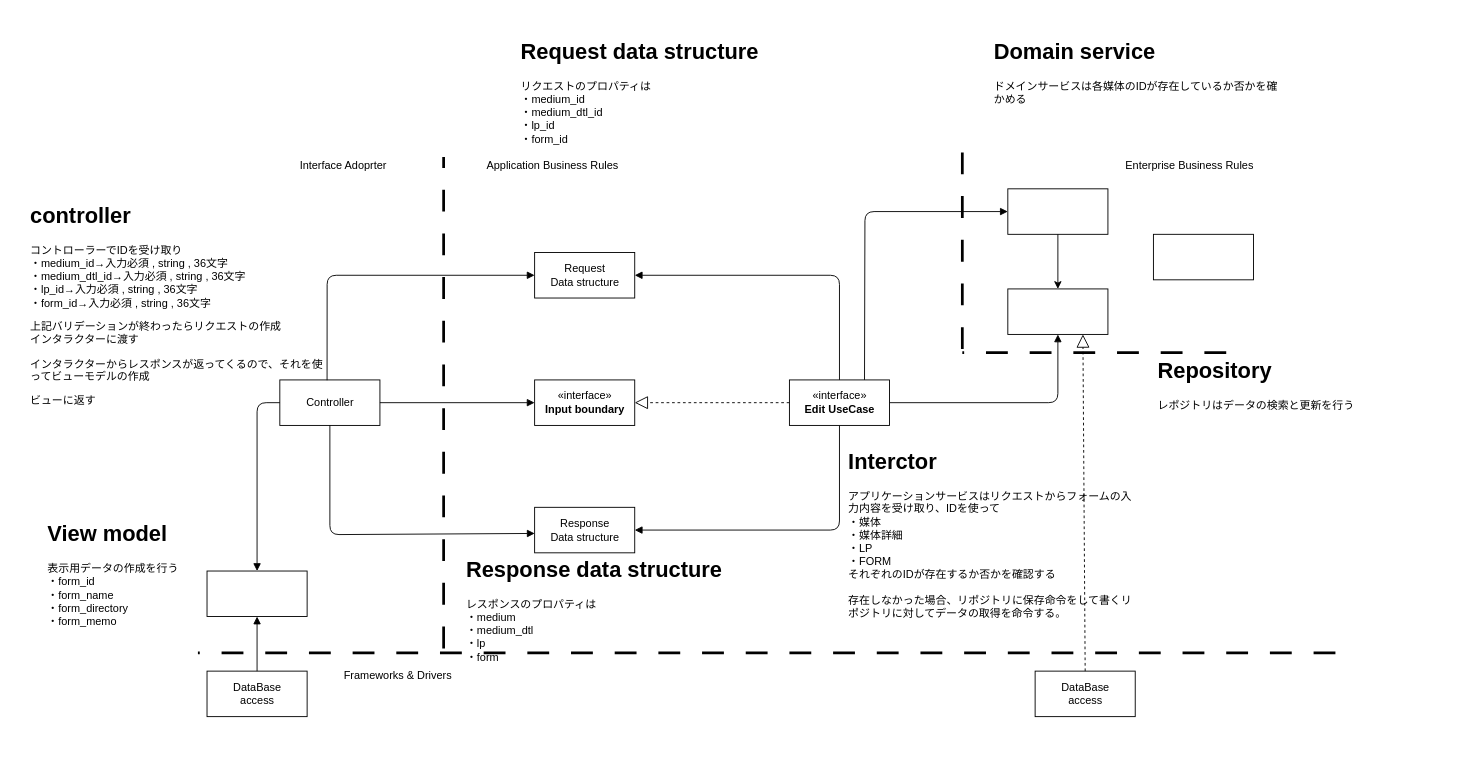
The diagram is 1469 pixels wide and 759 high, and some of its shapes have lost their labels. The shapes that lost their labels are listed below. From the top down, each one's centre as x and y in pixels, then its label:
the point at 1057,211: Domain Service
the point at 1203,256: Entities
the point at 1057,311: «interface» Repository
the point at 256,593: ViewModel Data structure
